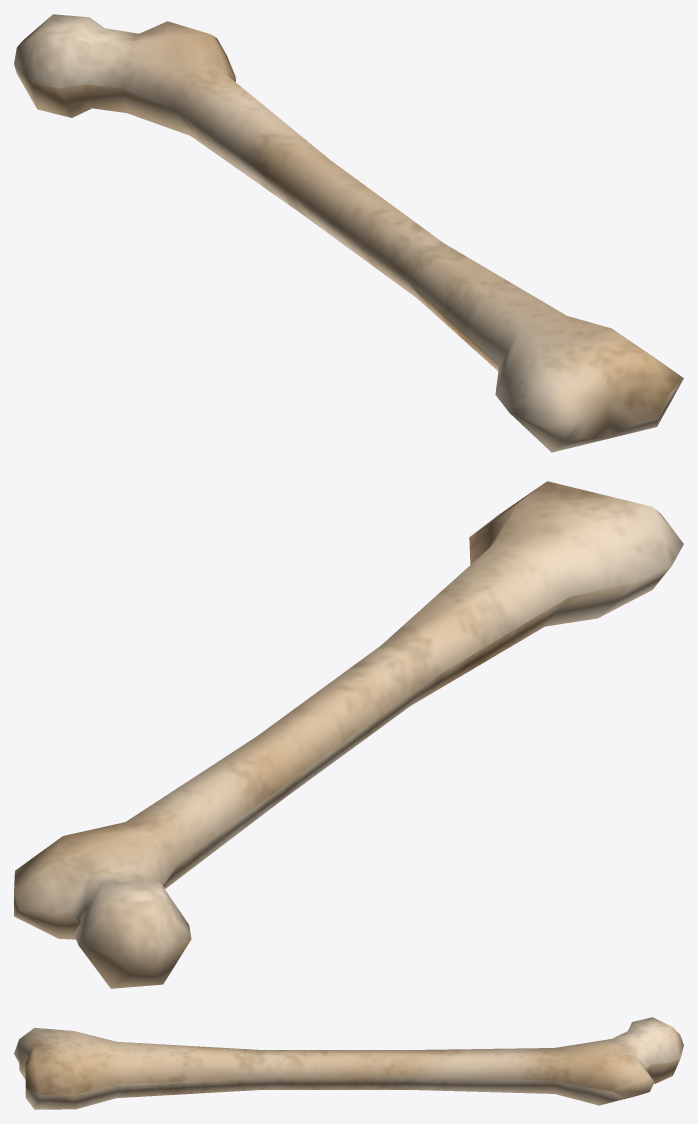
File: ThighBone.FBX
The picture shows the model from 3 angles, top to bottom: view 1: azimuth 30°, elevation 25°; view 2: azimuth 150°, elevation 25°; view 3: azimuth 270°, elevation 25°; orthographic projection. The views are drawn at different scales.
Visible parts, largest first — view 1: ThighBone; view 2: ThighBone; view 3: ThighBone.
Part boxes in pixels (bbox=[...]): ThighBone: bbox=[14, 14, 683, 452]; ThighBone: bbox=[14, 481, 683, 988]; ThighBone: bbox=[14, 1017, 683, 1109].
Size of the model in its own units: 15.79 by 6.95 by 76.37.
